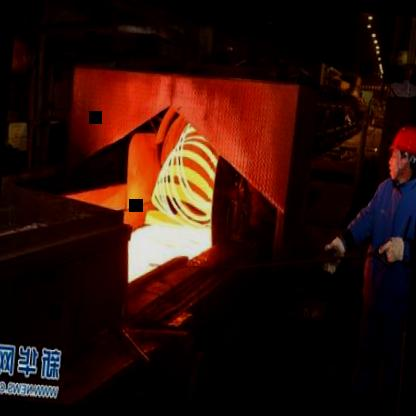helmet: (383, 120, 416, 184)
